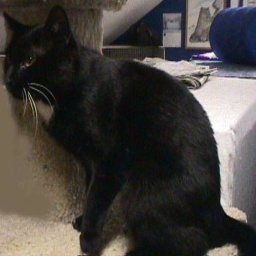cat: (2, 15, 252, 256)
